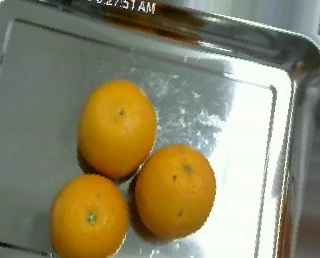Orange: (78, 78, 157, 180), (134, 142, 217, 238), (49, 173, 131, 257)
